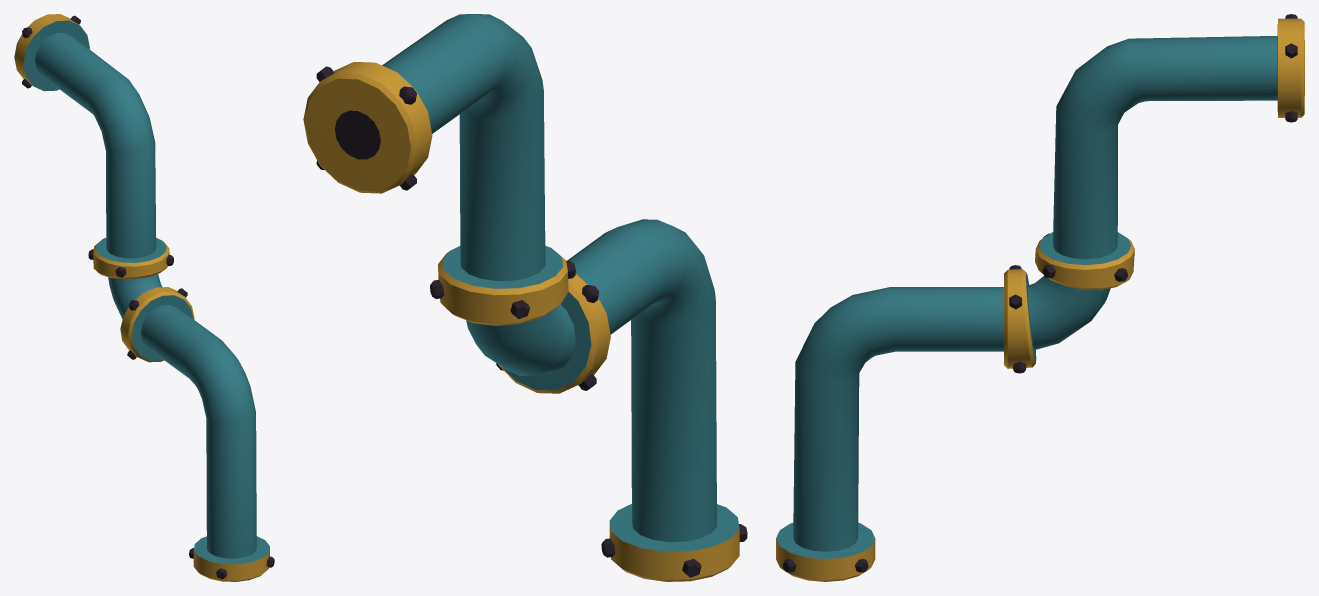
File: PipeRun_30.glb
The picture shows the model from 3 angles, left to right: view 1: azimuth 30°, elevation 25°; view 2: azimuth 150°, elevation 25°; view 3: azimuth 270°, elevation 25°; orthographic projection. The views are drawn at different scales.
Parts seen in each view (by area): view 1: PipeRun_30; view 2: PipeRun_30; view 3: PipeRun_30.
Boxes of the visible parts, <box> form: PipeRun_30: <box>14,14,274,581</box>; PipeRun_30: <box>303,14,747,581</box>; PipeRun_30: <box>776,14,1304,581</box>.
Bounding box in the file's own units: 1.1 × 6.6 × 5.86.
